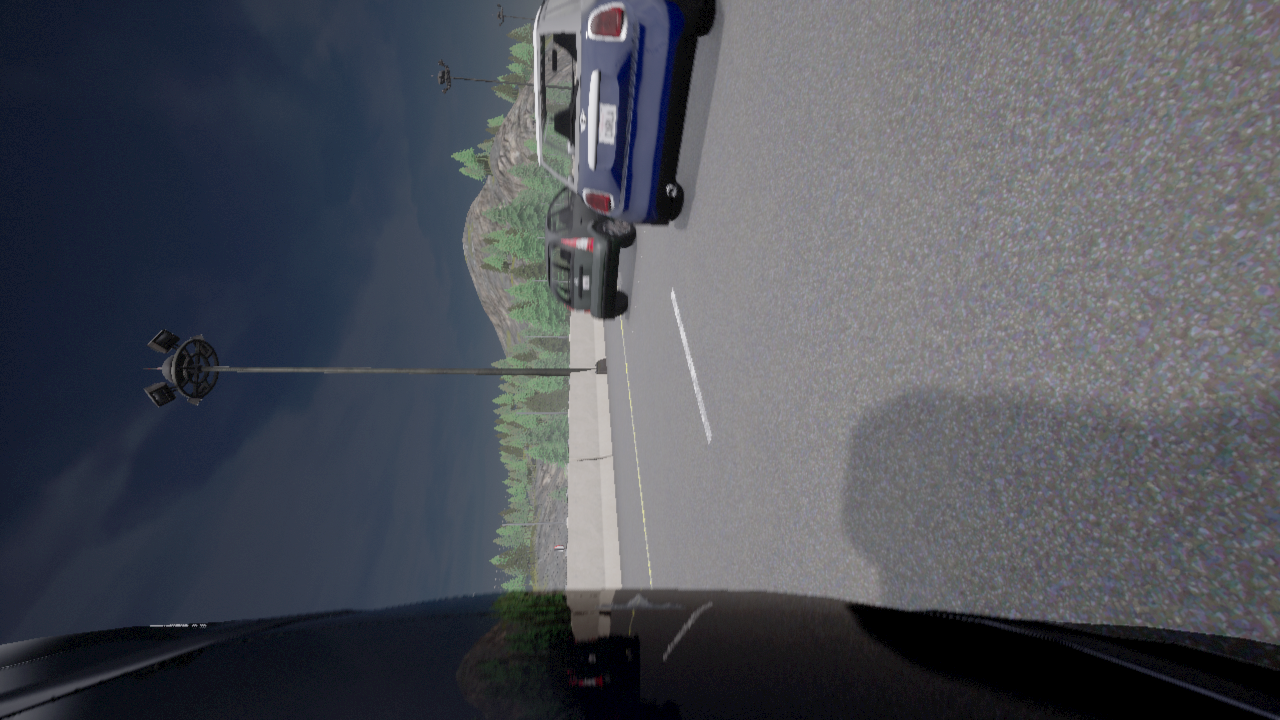cyclist: (0, 588, 1279, 719), (534, 0, 715, 226), (545, 185, 635, 320)
